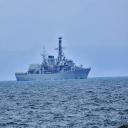Fragata: (16, 36, 92, 82)
